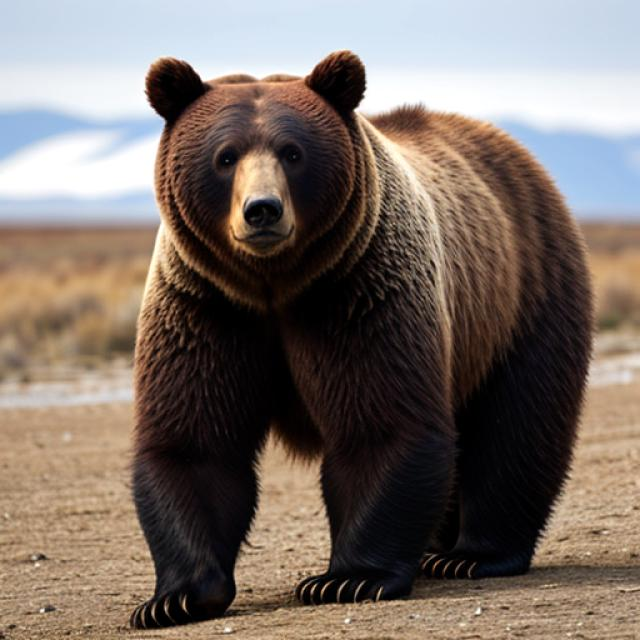bear: (85, 30, 578, 611)
